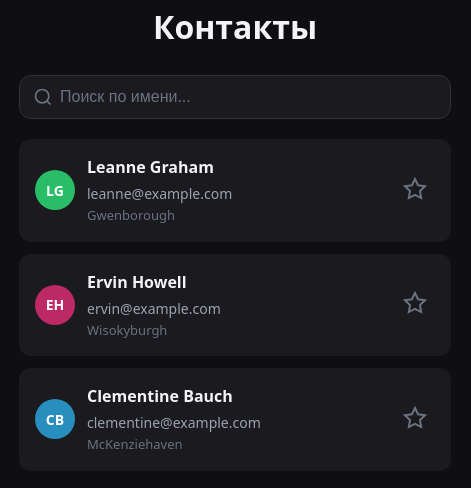
Test: App › показывает сообщение если ничего не найдено
Check: the heading "Leanne Graham" is shown, box [87, 156, 214, 178]
Type "НесуществующееИмя" into the field with placeholder "Поиск по имени...".
click(235, 97); type("НесуществующееИмя")  # box [19, 75, 451, 119]
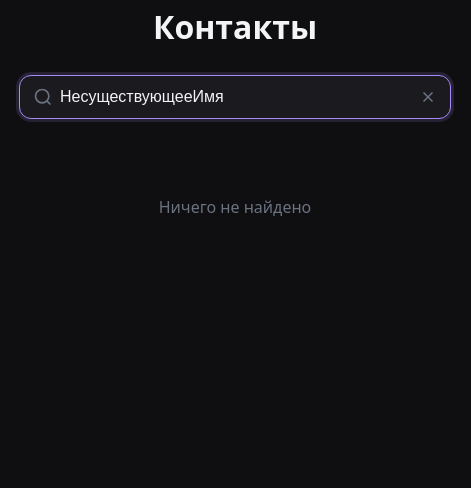
Check: the text "Ничего не найдено" is shown, box [159, 196, 311, 218]
